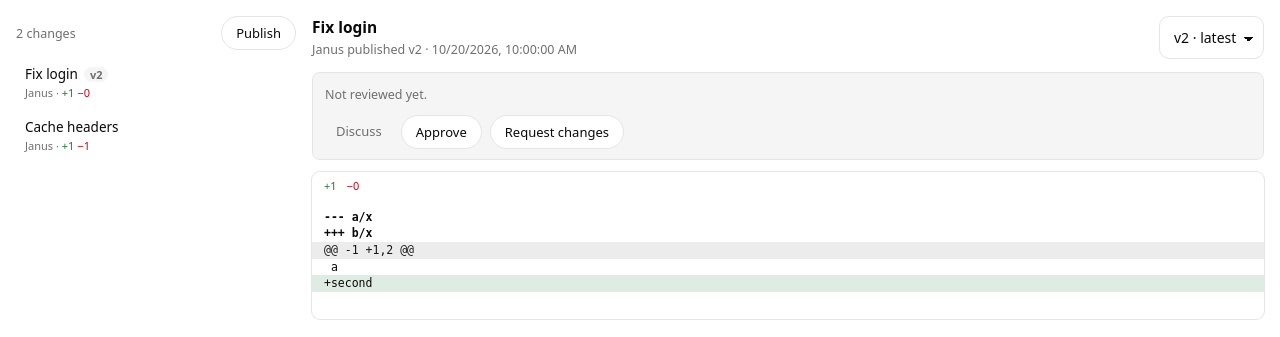
it: versions › folds versions into one artifact, newest on top, with a picker
Expected: the number of list items is 2, [16,58,296,107]; [16,111,296,160]
Expected: the text "v2" is shown, [84,67,108,82]
Select "v1" in the dropdown named "Version" at [1212, 38], box [1159,16,1264,59]
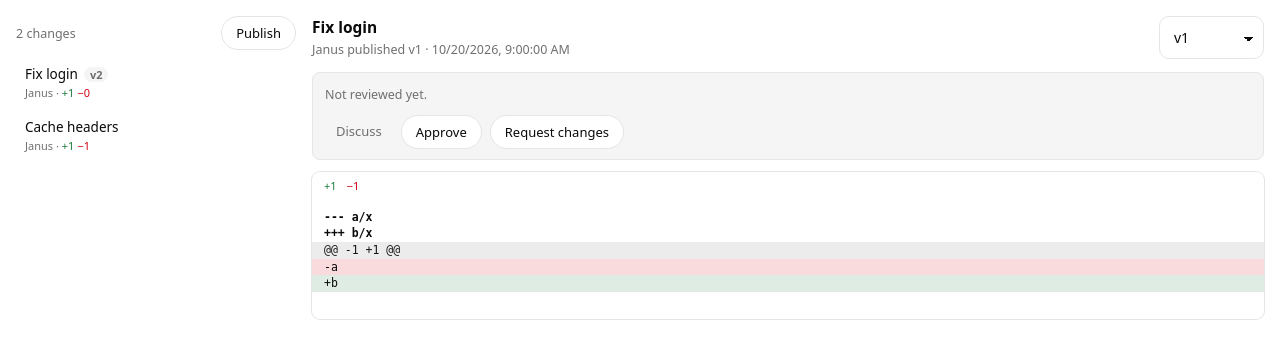
Expected: the text "Janus published v1 · 10/20/2026, 9:00:00 AM" is shown, [312,41,570,60]
